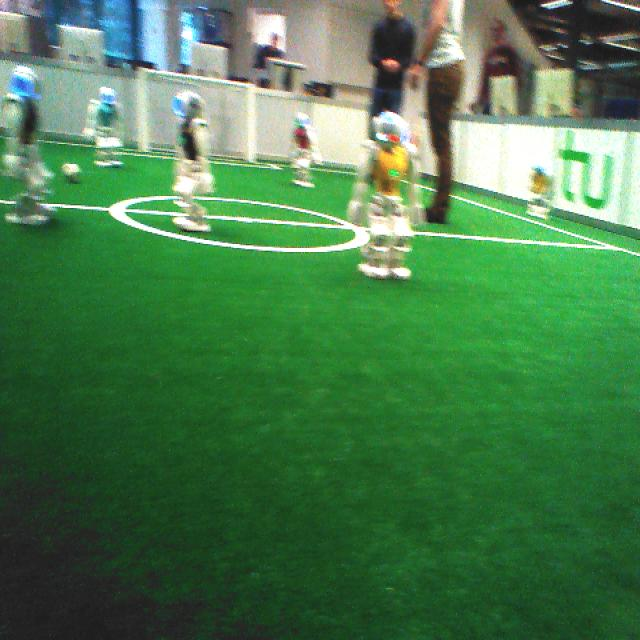ball: (62, 156, 85, 189)
goalpost: (136, 68, 149, 151), (246, 82, 257, 162)
